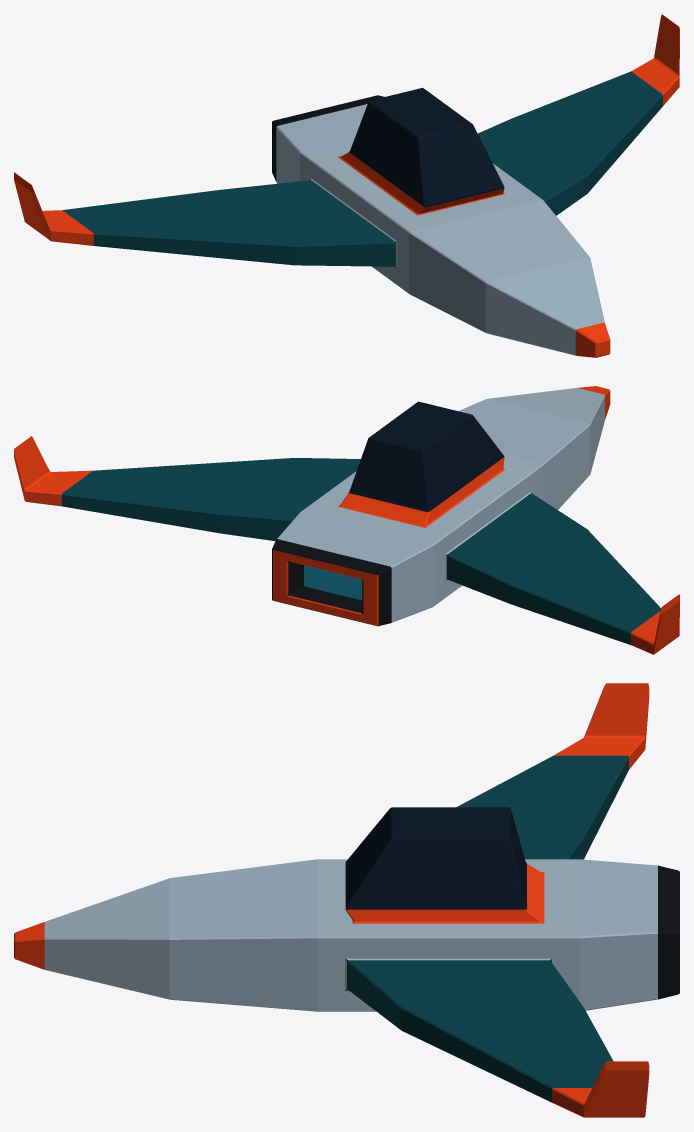
Rendered from nave_aster.obj.
3 renders of one model, top to bottom at view 1: azimuth 30°, elevation 25°; view 2: azimuth 150°, elevation 25°; view 3: azimuth 270°, elevation 25°, orthographic. The views are drawn at different scales.
Visible parts, largest first — view 1: Nave_Aster; view 2: Nave_Aster; view 3: Nave_Aster.
Part boxes in pixels (left/top/right/bottom): Nave_Aster: left=14, top=14, right=679, bottom=357; Nave_Aster: left=14, top=386, right=679, bottom=654; Nave_Aster: left=14, top=683, right=679, bottom=1117.
Size of the model in its own units: 8.2 by 1.52 by 6.1.
